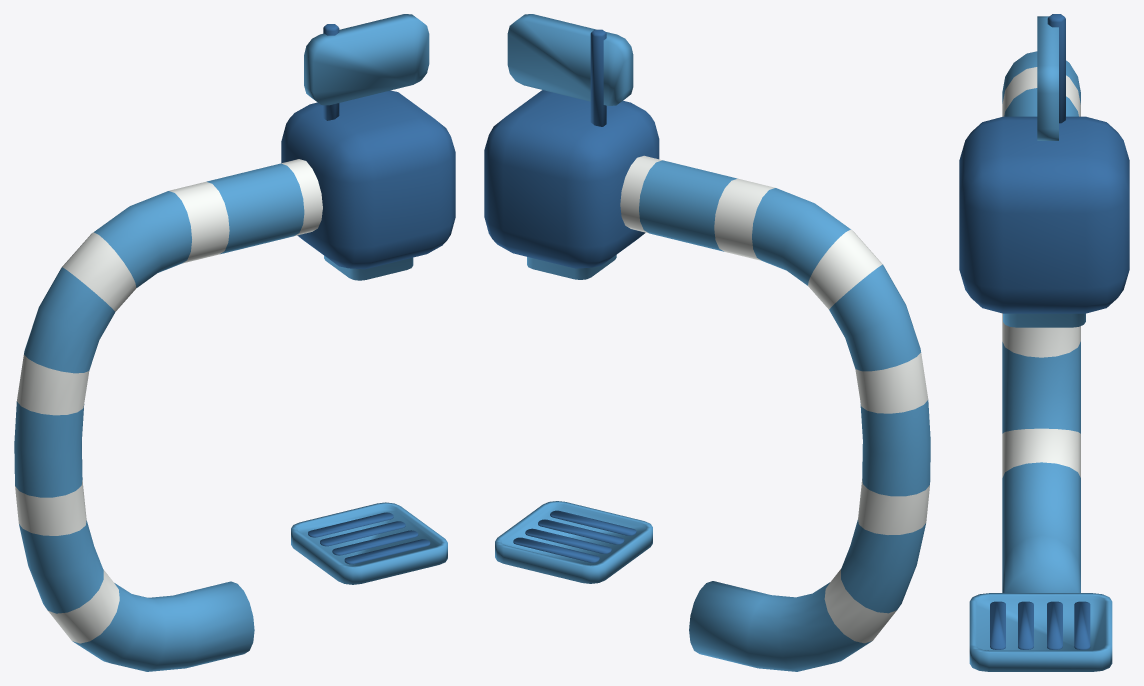
Rendered from Long Machine4.fbx.
3 views of the same model, side by side, from view 1: azimuth 30°, elevation 25°; view 2: azimuth 150°, elevation 25°; view 3: azimuth 270°, elevation 25° (orthographic). The views are drawn at different scales.
Parts seen in each view (by area): view 1: Cylinder.054, Cube.194, Cube.195, Cube.202, Cube.205, Cube.204, Cube.206, Cube.203; view 2: Cylinder.054, Cube.194, Cube.195, Cube.202, Cylinder.053, Cube.204, Cube.205, Cube.203, Cube.206; view 3: Cube.194, Cylinder.054, Cube.202, Cube.195, Cylinder.053, Cube.206, Cube.203, Cube.204, Cube.205.
Part boxes in pixels (left/top/right/bottom): Cylinder.054: left=14, top=159, right=322, bottom=671; Cube.194: left=281, top=90, right=455, bottom=280; Cube.195: left=304, top=14, right=429, bottom=105; Cube.202: left=291, top=502, right=447, bottom=584; Cube.205: left=344, top=539, right=430, bottom=564; Cube.204: left=332, top=530, right=418, bottom=555; Cube.206: left=308, top=512, right=393, bottom=537; Cube.203: left=320, top=521, right=405, bottom=546; Cylinder.054: left=620, top=155, right=930, bottom=671; Cube.194: left=484, top=90, right=659, bottom=279; Cube.195: left=507, top=14, right=633, bottom=105; Cube.202: left=495, top=501, right=652, bottom=583; Cylinder.053: left=590, top=29, right=606, bottom=126; Cube.204: left=538, top=519, right=624, bottom=544; Cube.205: left=550, top=510, right=636, bottom=535; Cube.203: left=525, top=528, right=611, bottom=553; Cube.206: left=513, top=537, right=599, bottom=562; Cube.194: left=959, top=116, right=1129, bottom=327; Cylinder.054: left=1002, top=51, right=1080, bottom=592; Cube.202: left=969, top=593, right=1112, bottom=671; Cube.195: left=1037, top=16, right=1058, bottom=140; Cylinder.053: left=1047, top=14, right=1065, bottom=123; Cube.206: left=1074, top=601, right=1090, bottom=649; Cube.203: left=1047, top=601, right=1062, bottom=649; Cube.204: left=1018, top=601, right=1033, bottom=649; Cube.205: left=990, top=601, right=1005, bottom=649.
Size of the model in its own units: 180 by 248 by 55.61.
